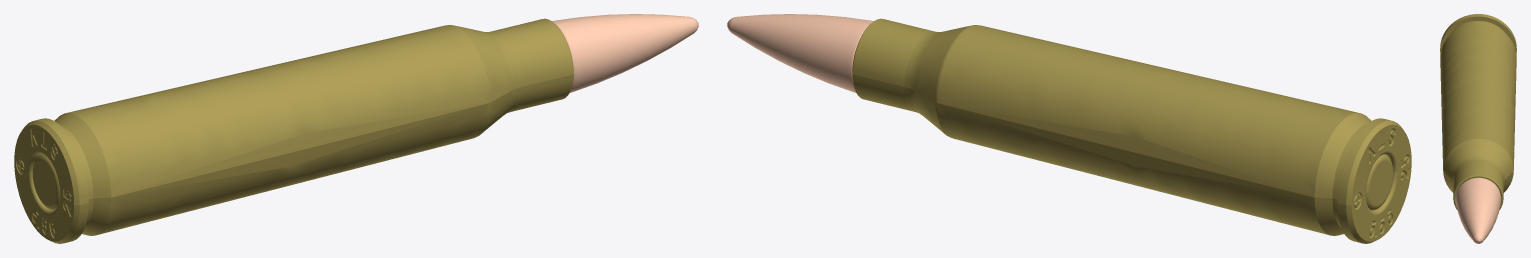
Rendered from 556x45_NATO.gltf.
The picture shows the model from 3 angles, left to right: view 1: azimuth 30°, elevation 25°; view 2: azimuth 150°, elevation 25°; view 3: azimuth 270°, elevation 25°; orthographic projection. The views are drawn at different scales.
Parts seen in each view (by area): view 1: part_0_brass, part_2_copper, part_5_brass; view 2: part_0_brass, part_2_copper, part_5_brass; view 3: part_0_brass, part_2_copper.
Boxes of the visible parts, left/top/right/bottom form: part_0_brass: left=14, top=18, right=573, bottom=243; part_2_copper: left=552, top=14, right=698, bottom=92; part_5_brass: left=32, top=154, right=59, bottom=210; part_0_brass: left=852, top=18, right=1411, bottom=243; part_2_copper: left=727, top=14, right=873, bottom=92; part_5_brass: left=1366, top=154, right=1393, bottom=210; part_0_brass: left=1440, top=14, right=1516, bottom=210; part_2_copper: left=1455, top=177, right=1501, bottom=243.
Size of the model in its own units: 57.4 by 9.57 by 9.6.
